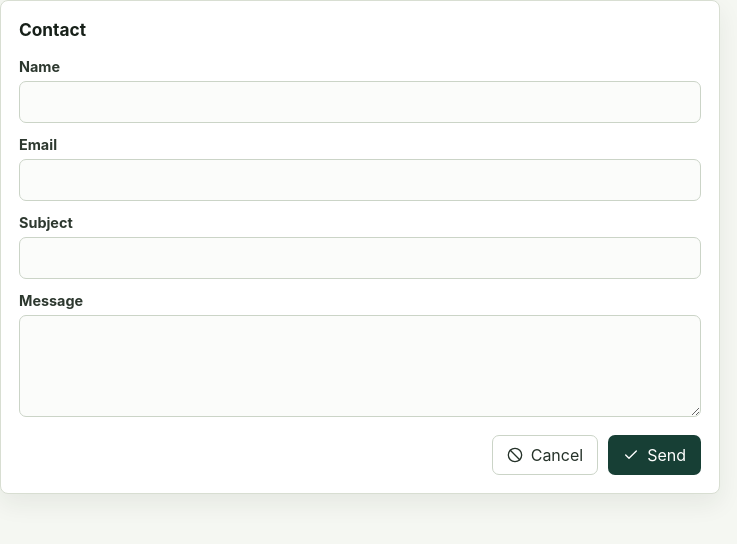
DynamicForm › cancels with an empty value set
Click the button "Cancel". click: (545, 455)
box: [492, 435, 598, 475]
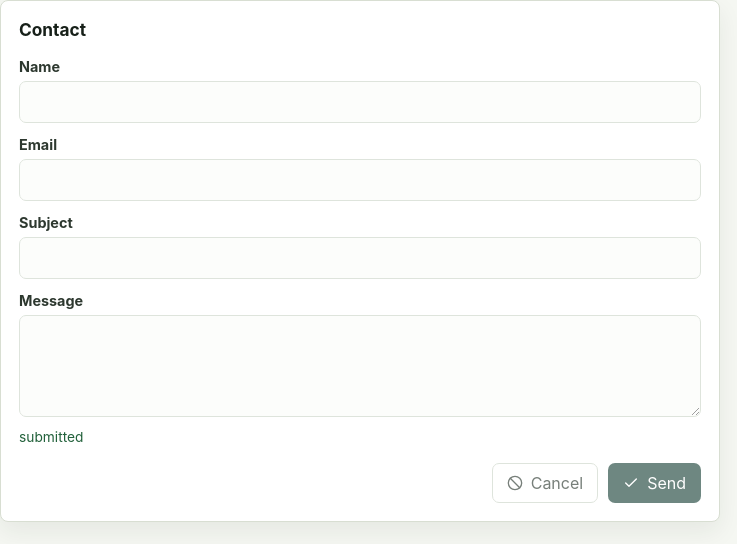
expect the text "submitted" is shown: met, box [19, 429, 84, 445]
